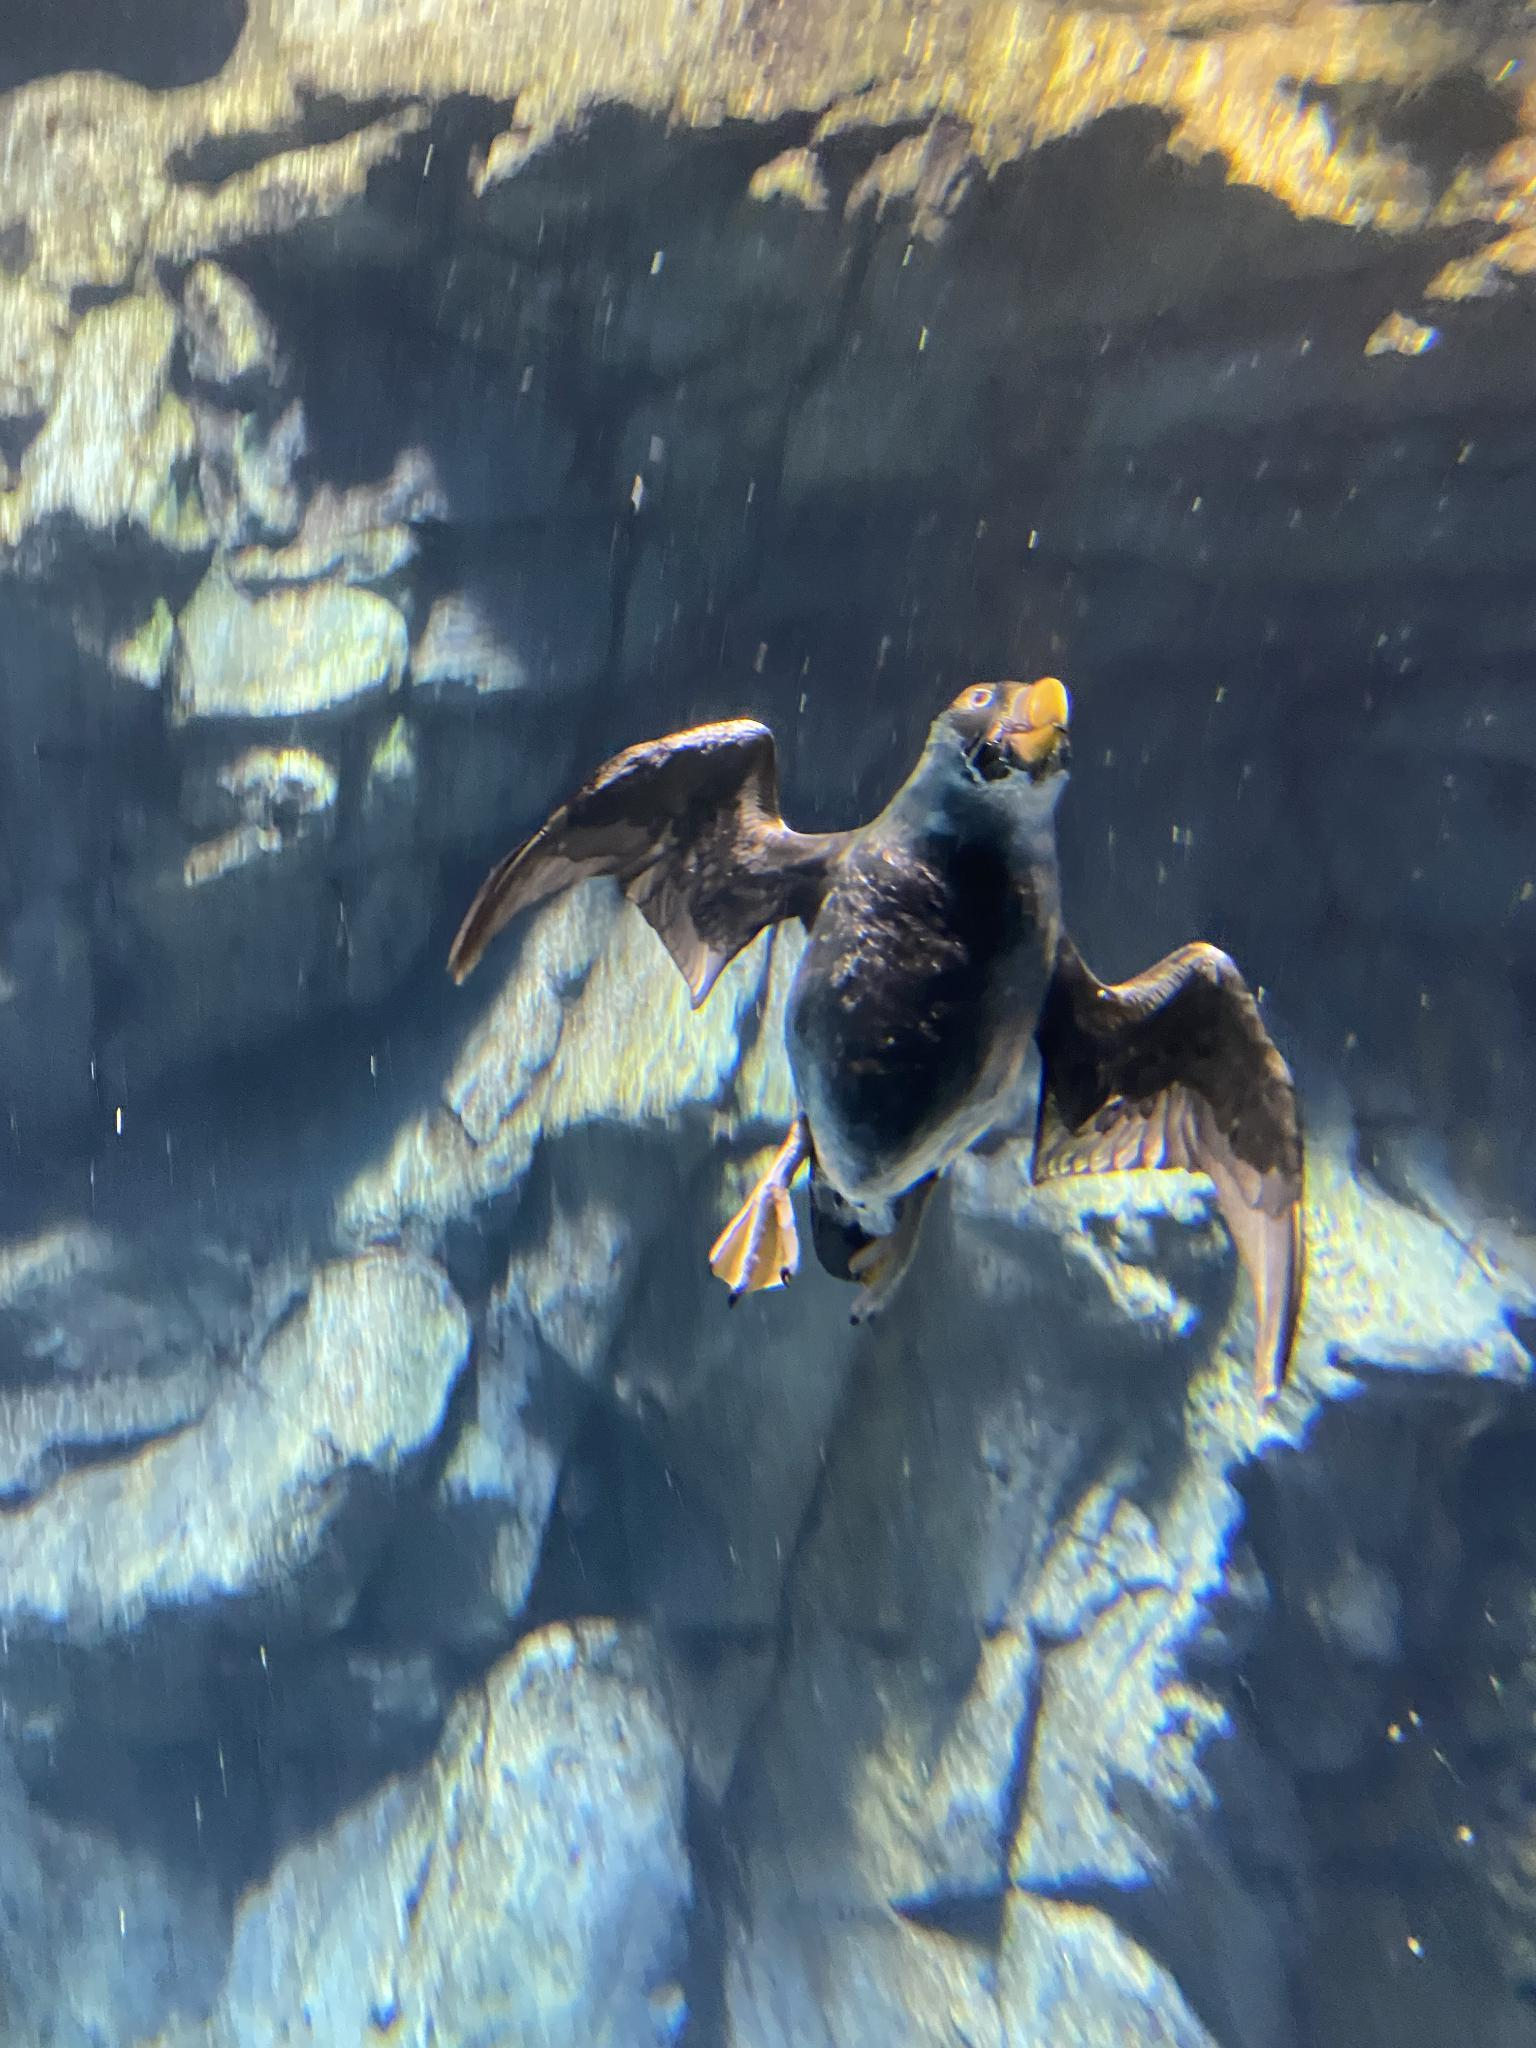puffin: (445, 619, 1346, 1409)
